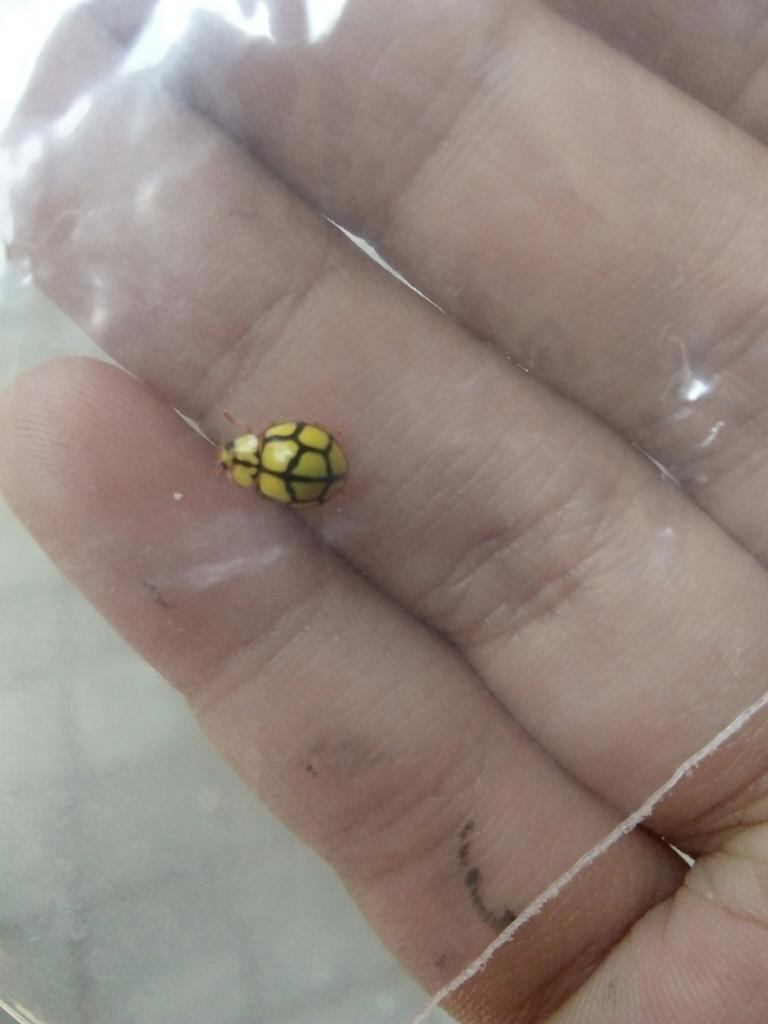ladybug: (209, 406, 356, 516)
